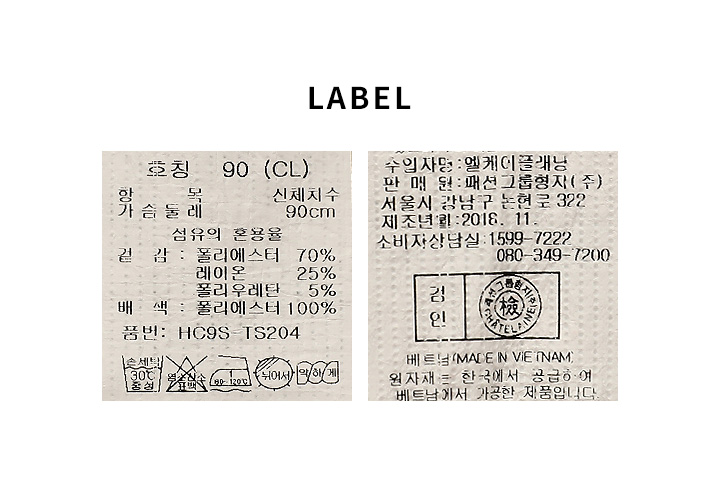KR_flat_dry_in_shade: (255, 353, 294, 391)
KR_gentle_wring: (293, 355, 342, 390)
KR_hand_wash_30_neutral: (120, 351, 165, 398)
KR_iron_low_temp_with_cloth: (208, 352, 253, 395)
KR_no_bleach: (166, 353, 209, 398)
